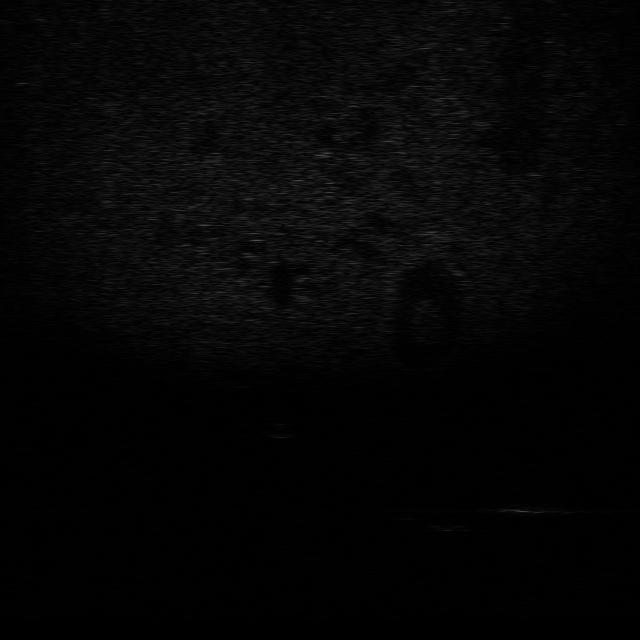ball: (256, 417, 302, 439)
metal bucket: (496, 495, 569, 520)
tyre: (390, 503, 476, 532)
